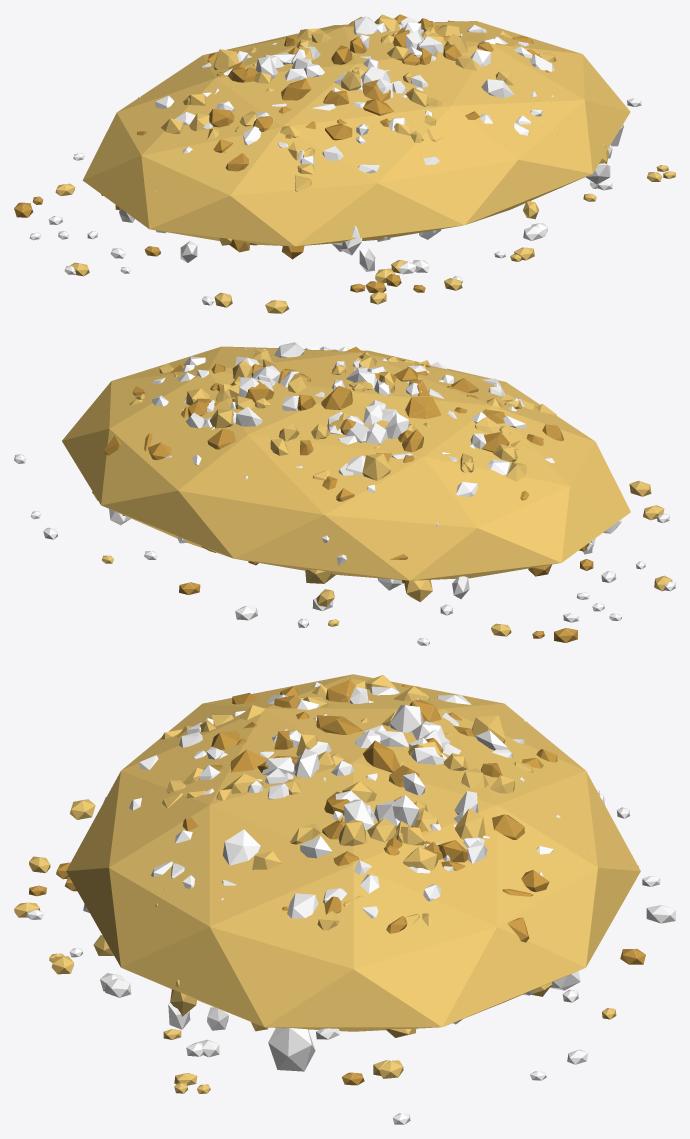
Rendered from arepa.glb.
The picture shows the model from 3 angles, top to bottom: view 1: azimuth 30°, elevation 25°; view 2: azimuth 150°, elevation 25°; view 3: azimuth 270°, elevation 25°; orthographic projection. The views are drawn at different scales.
Visible parts, largest first — view 1: maizmolido; view 2: maizmolido; view 3: maizmolido.
Boxes of the visible parts, x1=… form: maizmolido: x1=14, y1=14, x2=675, y2=313; maizmolido: x1=14, y1=342, x2=675, y2=645; maizmolido: x1=14, y1=674, x2=675, y2=1124.
Bounding box in the file's own units: 4.78 × 1.07 × 3.41.
Materials: 4 (2 with a texture image).
